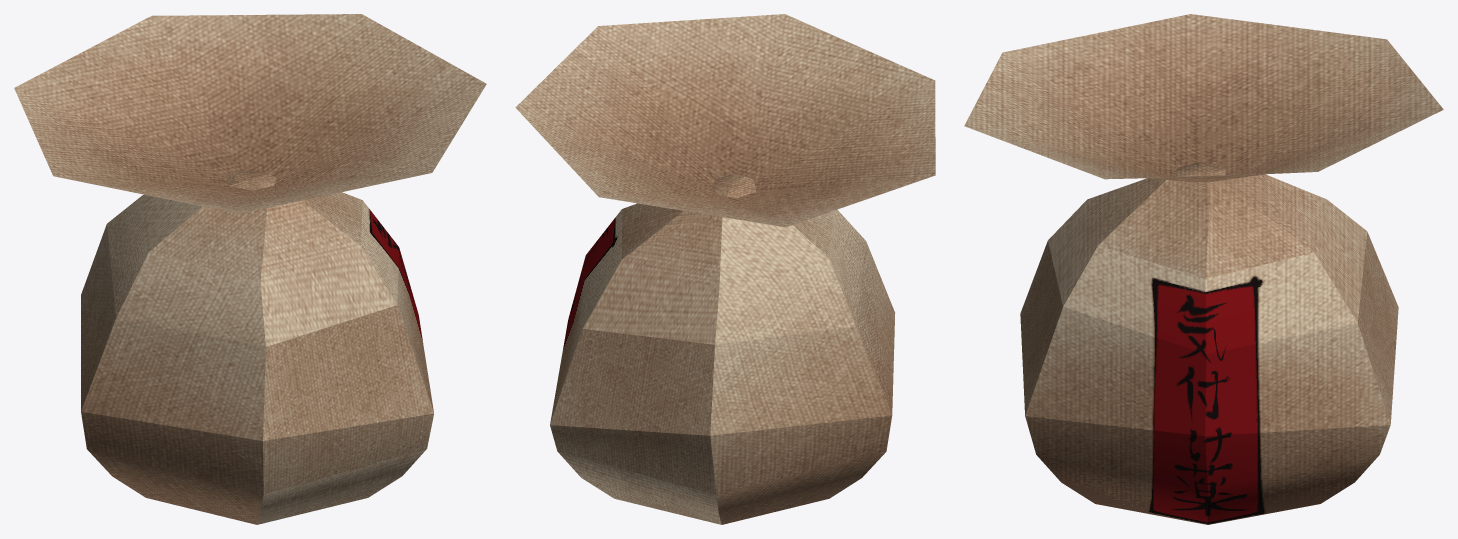
Rendered from Salt_bag.fbx.
3 views of the same model, side by side, from view 1: azimuth 30°, elevation 25°; view 2: azimuth 150°, elevation 25°; view 3: azimuth 270°, elevation 25° (orthographic). The views are drawn at different scales.
Visible parts, largest first — view 1: pSphere2; view 2: pSphere2; view 3: pSphere2.
Part boxes in pixels (x1,y1,x2,y2): pSphere2: (14, 14, 486, 524); pSphere2: (515, 14, 935, 524); pSphere2: (964, 14, 1443, 524).
Size of the model in its own units: 3.2 by 3.01 by 3.35.
1 material, 1 textured.
